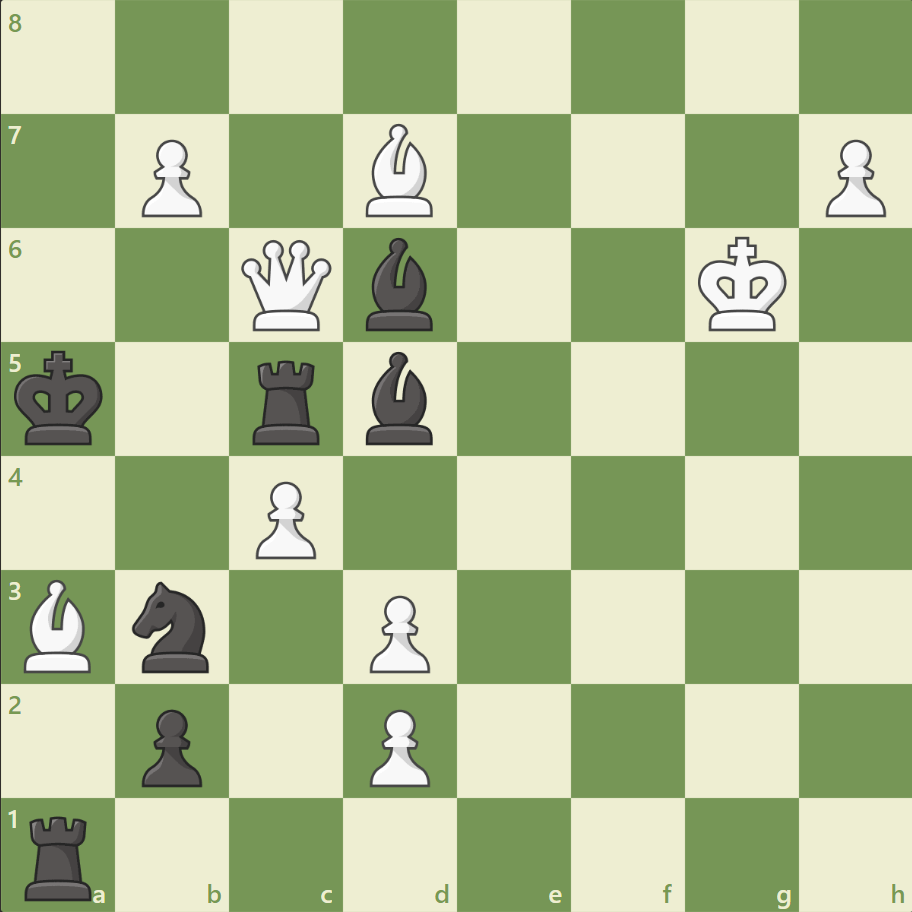B: (358, 120, 442, 222), (17, 574, 101, 676)
K: (692, 231, 792, 339)
P: (133, 132, 208, 223), (247, 473, 322, 564), (815, 132, 889, 223), (361, 586, 435, 677), (361, 700, 435, 791)
Q: (237, 236, 336, 335)
b: (358, 233, 442, 336), (358, 347, 442, 449)
k: (11, 344, 111, 452)
n: (124, 575, 222, 677)
p: (133, 700, 208, 791)
r: (19, 806, 102, 904), (246, 352, 329, 449)
